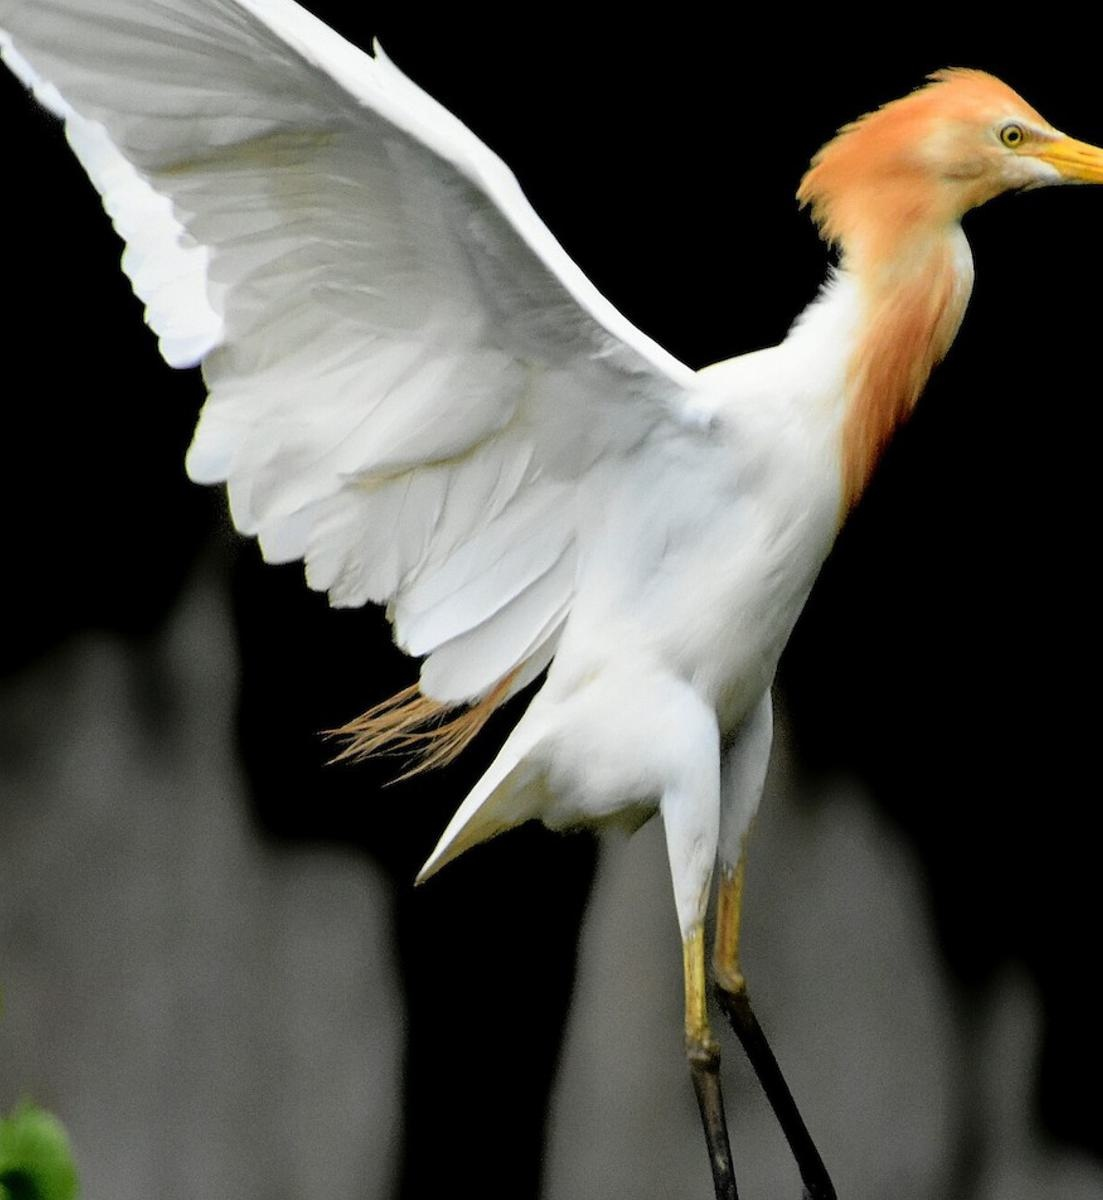egret: (262, 26, 1100, 1176)
